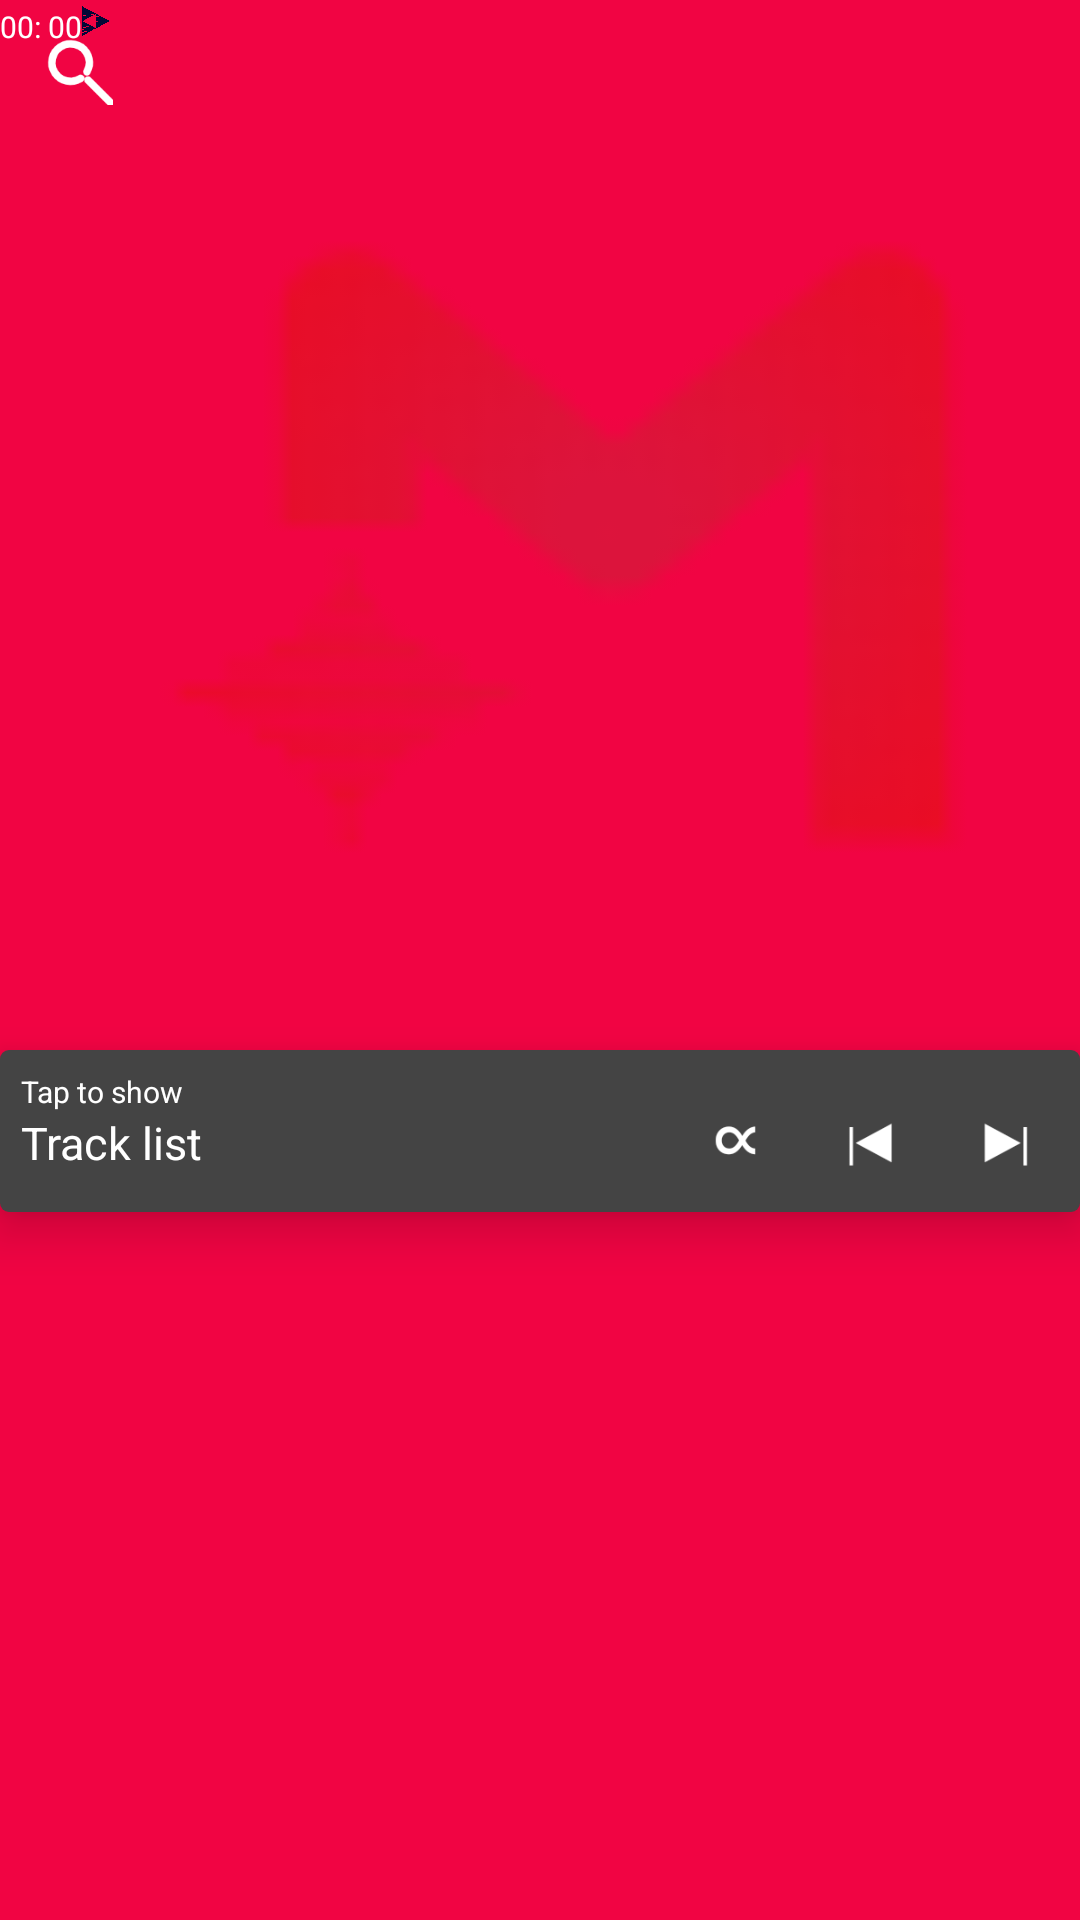

Named icons in this screenshot (1080px×1920px) and their bounding boxes, (x1, y1, x2, y2):
back: (849, 1123, 892, 1166)
next: (984, 1123, 1028, 1166)
search: (36, 35, 113, 105)
